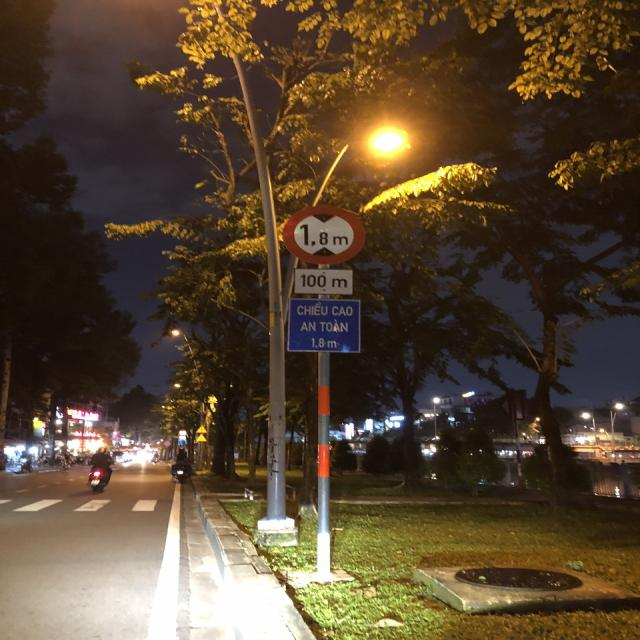Bien bao han che chieu cao: (281, 201, 369, 263)
